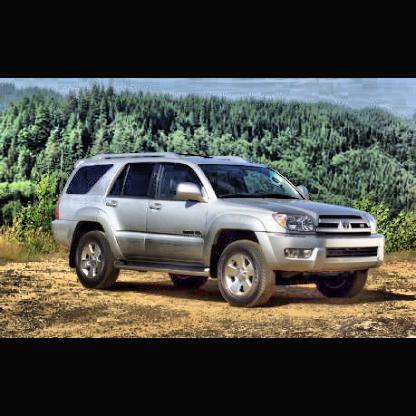Toyota 4Runner SUV 2012: (51, 154, 385, 309)
